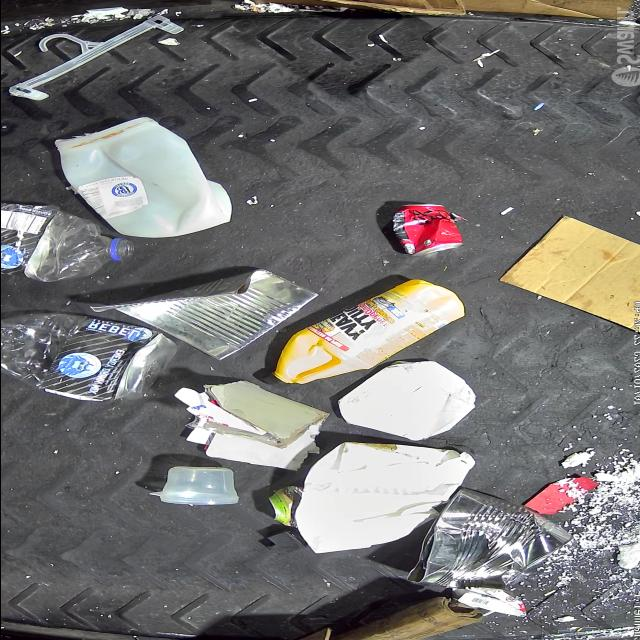can: (401, 492, 572, 598), (391, 204, 464, 256), (268, 486, 300, 524)
milk_jug: (52, 117, 230, 239)
non_white_jug: (262, 283, 468, 389)
plastic_bottle: (0, 313, 179, 402), (0, 202, 133, 282)
